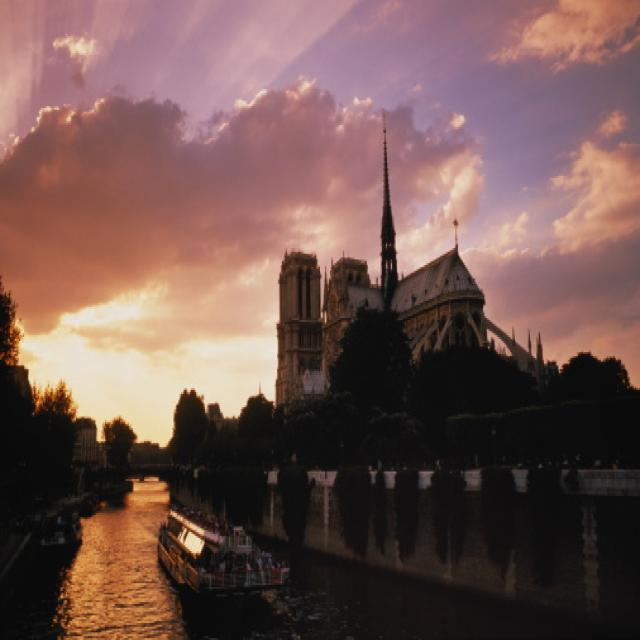Boat: (155, 483, 320, 640), (18, 509, 88, 579)
